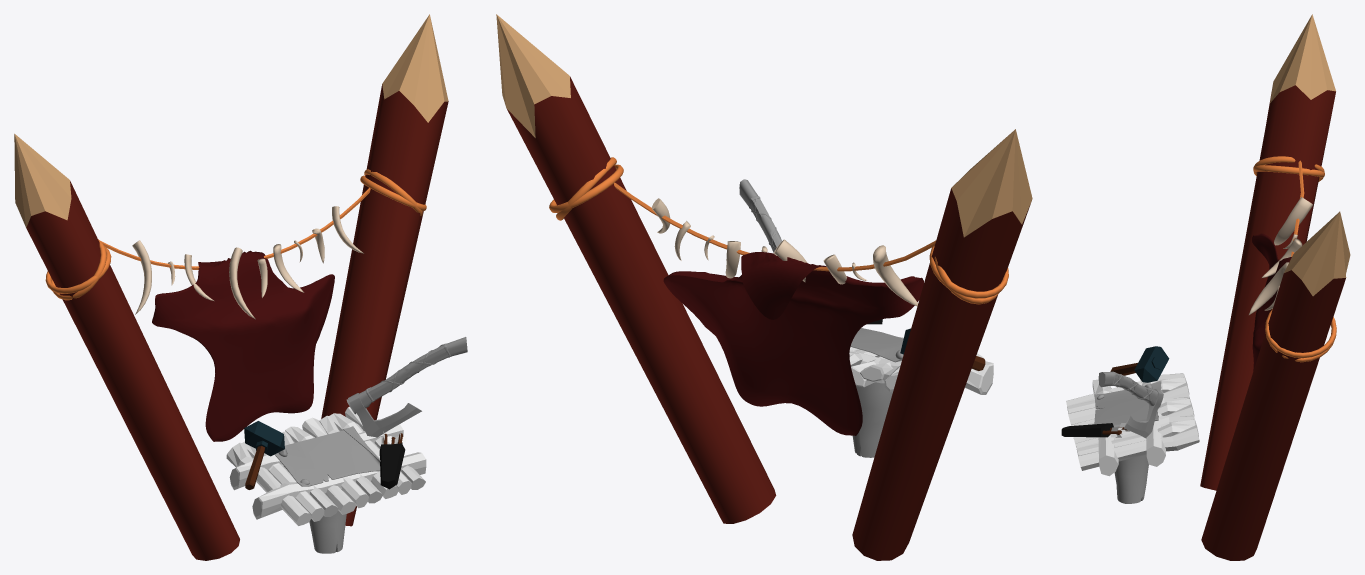
Rendered from Workbench_1.FBX.
3 renders of one model, left to right at view 1: azimuth 30°, elevation 25°; view 2: azimuth 150°, elevation 25°; view 3: azimuth 270°, elevation 25°, orthographic. The views are drawn at different scales.
Parts seen in each view (by area): view 1: Cylinder001, pPlane14, Object011, pPlane18, pasted__polySurface65, pCylinder5, Box11105, pCylinder1, pCube3, Weapon13, pCylinder29; view 2: Cylinder001, pPlane14, pasted__polySurface65, Object011, pCylinder1, pPlane18, pCylinder29, pCylinder5, Torus002, Torus005; view 3: Cylinder001, Object011, pasted__polySurface65, pPlane18, pCylinder1, pPlane14, Box11105, pCylinder5, pCube3, Weapon13, Torus005, Torus002.
Boxes of the visible parts, <box> form: Cylinder001: <box>14,14,448,560</box>; pPlane14: <box>152,250,334,441</box>; Object011: <box>226,406,426,525</box>; pPlane18: <box>274,426,380,486</box>; pasted__polySurface65: <box>132,206,363,319</box>; pCylinder5: <box>346,337,467,414</box>; Box11105: <box>244,421,284,489</box>; pCylinder1: <box>309,475,346,553</box>; pCube3: <box>348,393,421,437</box>; Weapon13: <box>379,443,405,489</box>; pCylinder29: <box>100,188,370,269</box>; Cylinder001: <box>496,14,1032,560</box>; pPlane14: <box>663,252,923,435</box>; pasted__polySurface65: <box>652,198,918,306</box>; Object011: <box>849,336,993,394</box>; pCylinder1: <box>852,382,892,457</box>; pPlane18: <box>850,328,903,362</box>; pCylinder29: <box>614,182,936,271</box>; pCylinder5: <box>739,179,781,252</box>; Torus002: <box>929,246,1008,298</box>; Torus005: <box>549,164,623,212</box>; Cylinder001: <box>1200,14,1350,560</box>; Object011: <box>1066,373,1199,476</box>; pasted__polySurface65: <box>1249,197,1312,314</box>; pPlane18: <box>1094,381,1161,427</box>; pCylinder1: <box>1114,454,1148,503</box>; pPlane14: <box>1252,233,1291,370</box>; Box11105: <box>1110,346,1169,382</box>; pCylinder5: <box>1098,371,1163,407</box>; pCube3: <box>1124,389,1163,438</box>; Weapon13: <box>1061,423,1113,437</box>; Torus005: <box>1265,325,1336,358</box>; Torus002: <box>1253,165,1324,177</box>.
Bounding box in the file's own units: 117 × 113 × 71.13.
